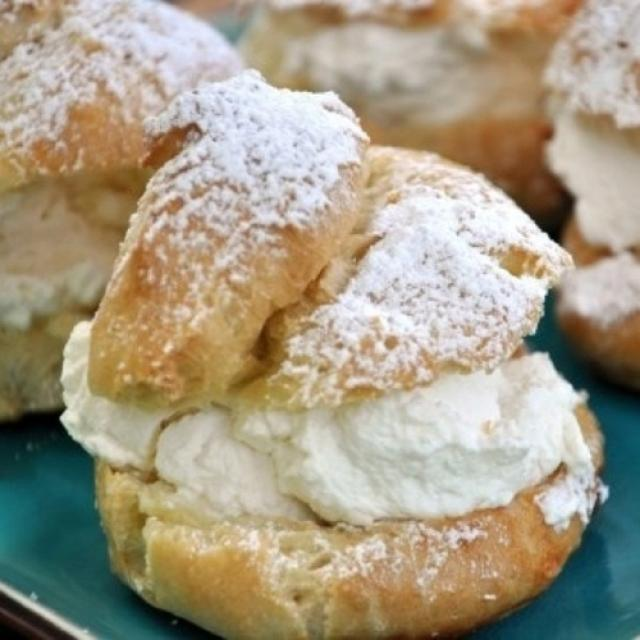炸货点心: (39, 37, 602, 626)
蛋糕甜品: (39, 37, 602, 626)
